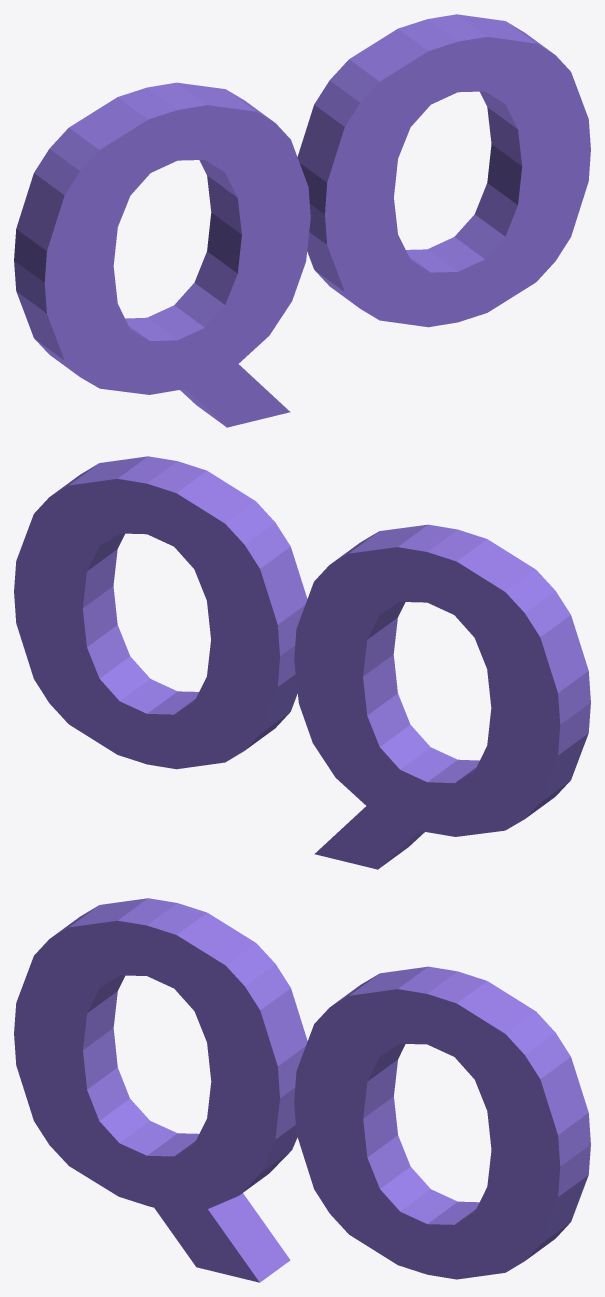
The model's file is suku_besar_qo.glb.
3 views of the same model, one above another, from view 1: azimuth 30°, elevation 25°; view 2: azimuth 150°, elevation 25°; view 3: azimuth 330°, elevation 25° (orthographic).
Parts seen in each view (by area): view 1: geometry_0; view 2: geometry_0; view 3: geometry_0.
Boxes of the visible parts, left/top/right/bottom form: geometry_0: left=14, top=14, right=590, bottom=427; geometry_0: left=14, top=456, right=590, bottom=869; geometry_0: left=14, top=898, right=590, bottom=1282.
Size of the model in its own units: 15.4 by 8.88 by 1.5.
